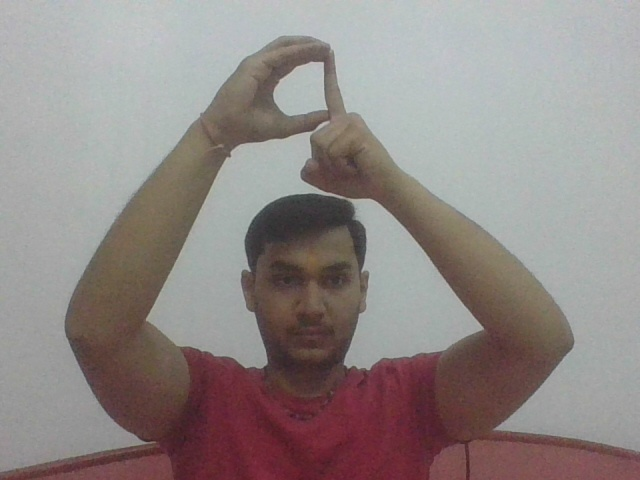D: (208, 32, 387, 197)
